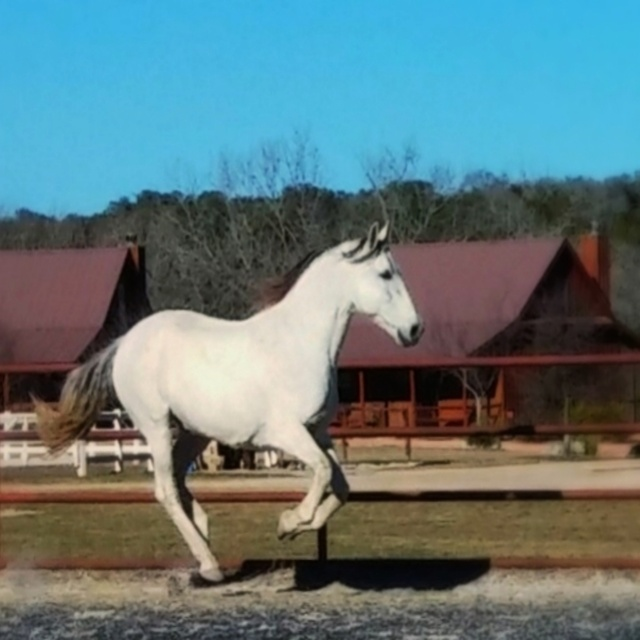Horse: (29, 216, 423, 579)
